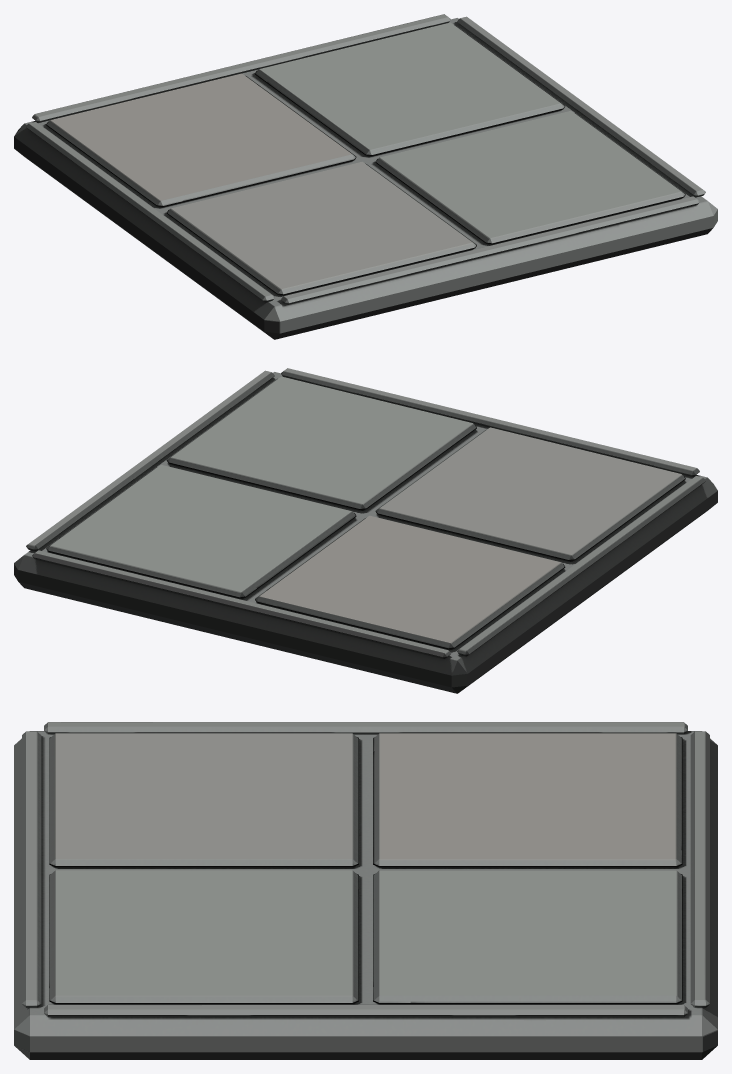
Rendered from 0-20261016-1900-ev061-r11-exterior-pathtile_baked.glb.
3 views of the same model, one above another, from view 1: azimuth 30°, elevation 25°; view 2: azimuth 150°, elevation 25°; view 3: azimuth 270°, elevation 25° (orthographic). The views are drawn at different scales.
Visible parts, largest first — view 1: SW_Exterior_PathTile; view 2: SW_Exterior_PathTile; view 3: SW_Exterior_PathTile.
Boxes of the visible parts, <box> form: SW_Exterior_PathTile: <box>14,14,717,339</box>; SW_Exterior_PathTile: <box>14,368,717,693</box>; SW_Exterior_PathTile: <box>14,722,717,1059</box>.
Size of the model in its own units: 2 by 0.167 by 2.
1 material, 1 textured.
